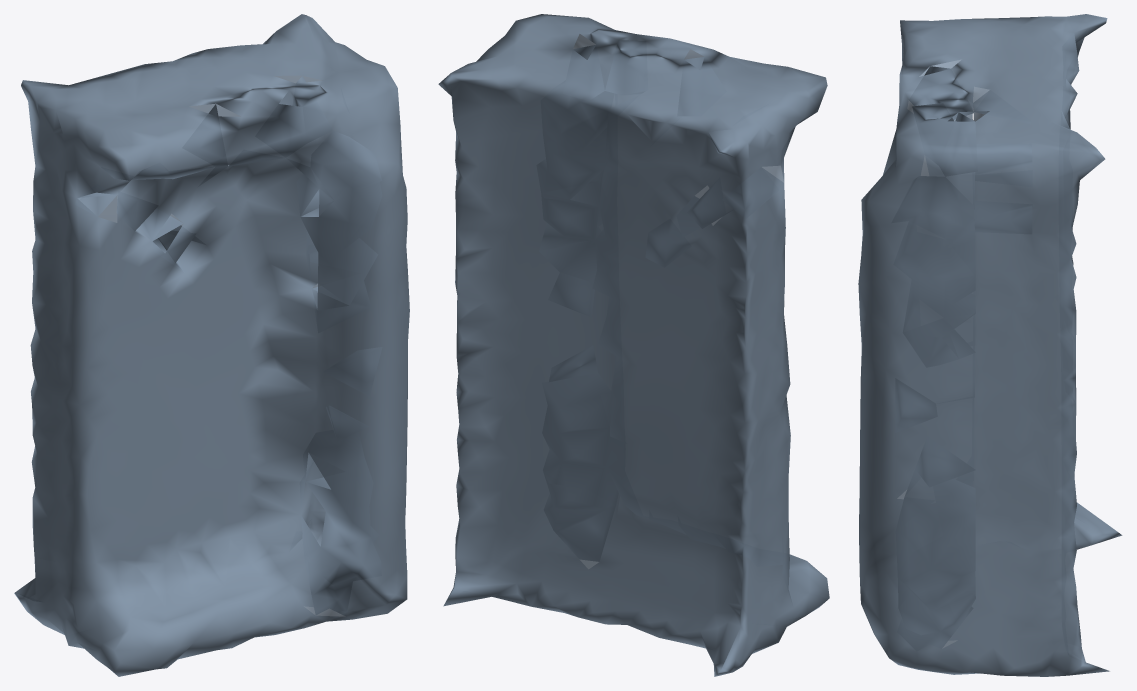
The model's file is sofa_0334_recon.obj.
3 renders of one model, left to right at view 1: azimuth 30°, elevation 25°; view 2: azimuth 150°, elevation 25°; view 3: azimuth 270°, elevation 25°, orthographic.
Bounding box in the file's own units: 0.9142 × 1.58 × 0.704.
